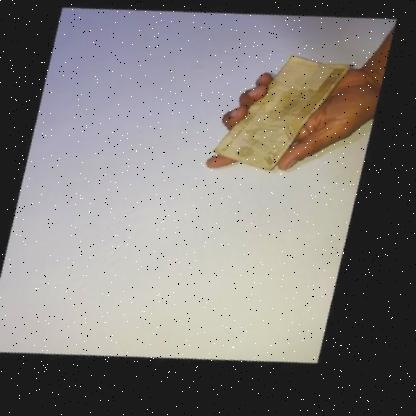five-back-vef: (204, 49, 367, 189)
